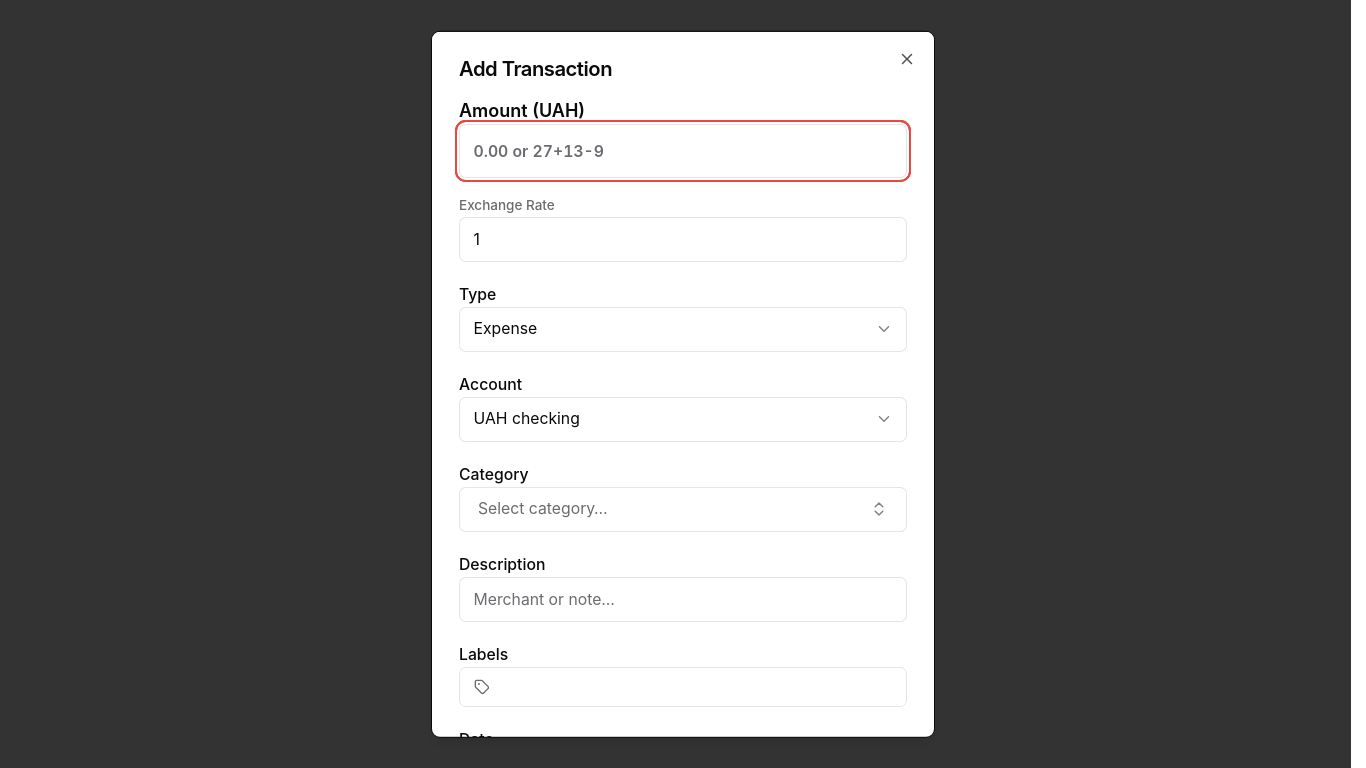
TransactionForm -- amount and transfer integrity › uses the selected account's currency in the mismatch error
Type "€23.50" into the field labelled "Amount (UAH)".
click(683, 151); type("€23.50")  # box [459,124,907,178]
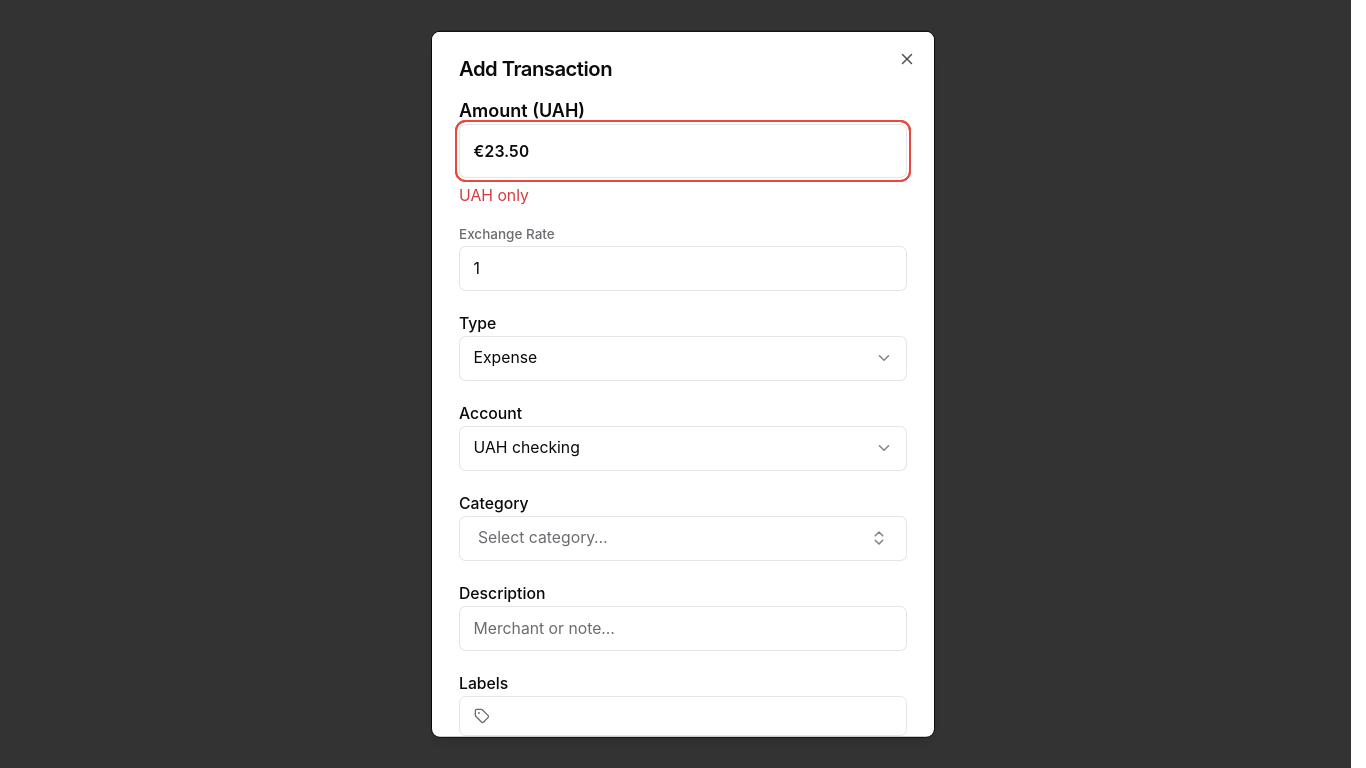
Expected: the message reads "UAH only", [459,186,529,205]
